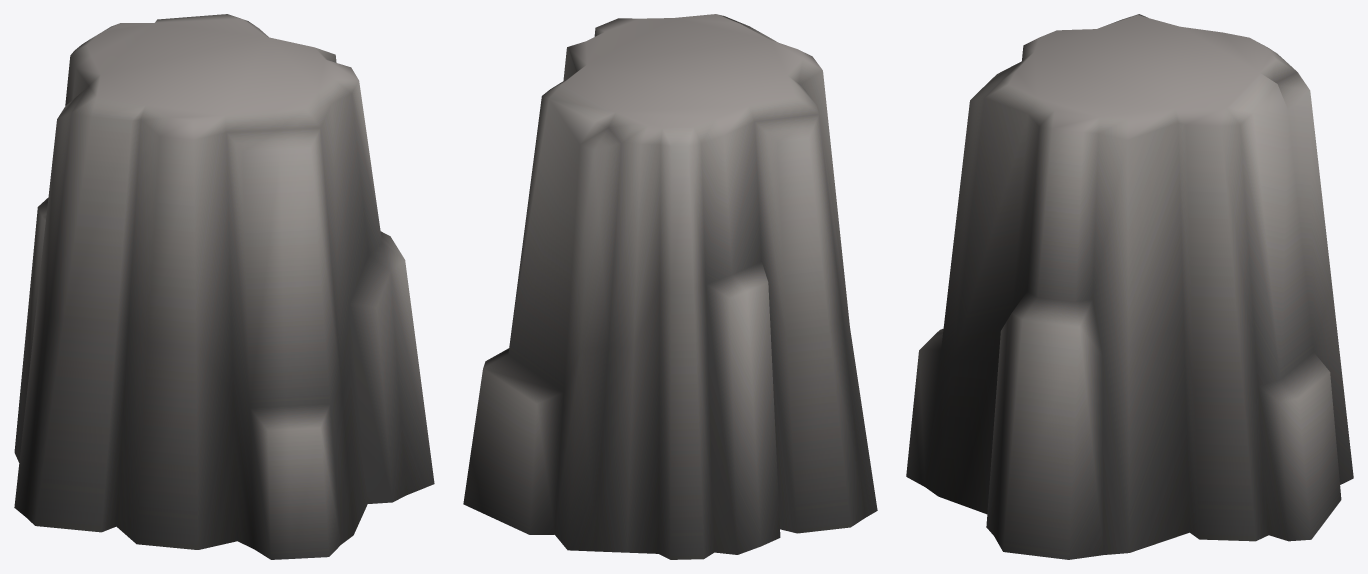
The model's file is m_Cliff02_A.fbx.
3 renders of one model, left to right at view 1: azimuth 30°, elevation 25°; view 2: azimuth 150°, elevation 25°; view 3: azimuth 270°, elevation 25°, orthographic.
Visible parts, largest first — view 1: m_Cliff02_A; view 2: m_Cliff02_A; view 3: m_Cliff02_A.
Part boxes in pixels (x1=…): m_Cliff02_A: x1=14, y1=14, x2=434, y2=559; m_Cliff02_A: x1=463, y1=14, x2=877, y2=559; m_Cliff02_A: x1=906, y1=14, x2=1353, y2=559.
Bounding box in the file's own units: 925 × 996 × 997.
